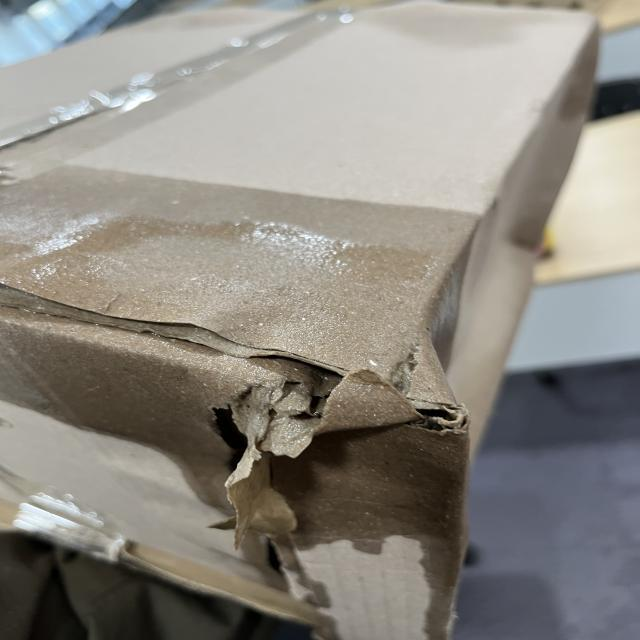wet: (2, 162, 520, 552)
